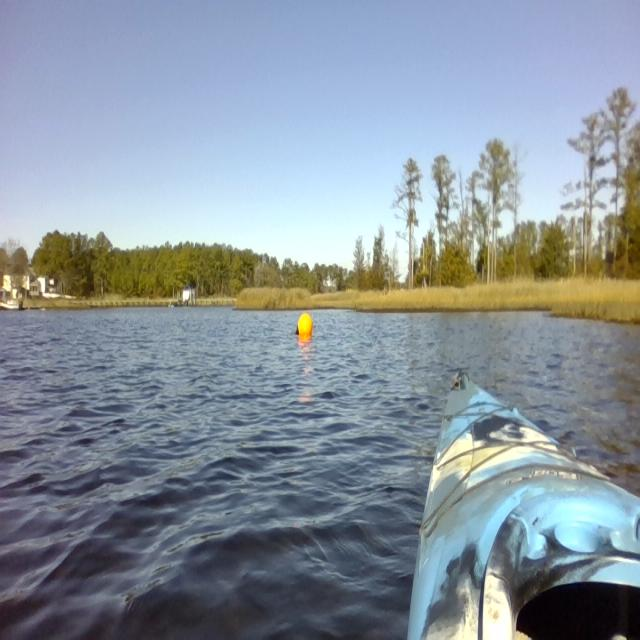Buoy: (291, 309, 317, 346)
